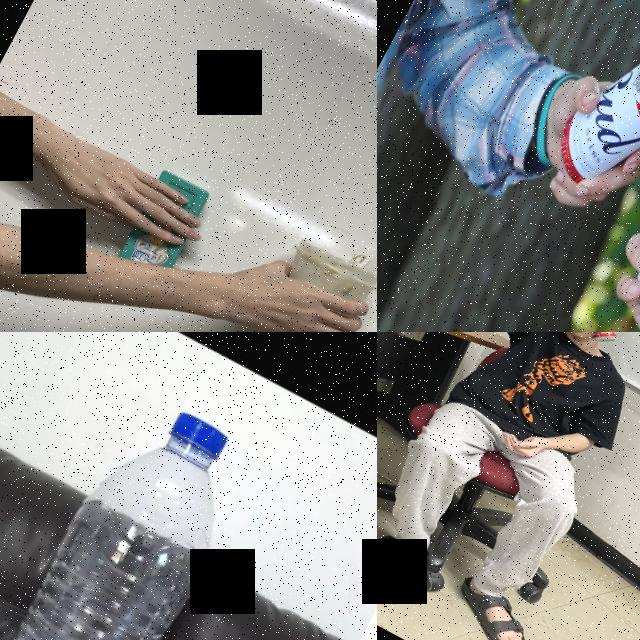bottle: (0, 384, 269, 640)
can: (541, 0, 640, 221), (555, 332, 635, 350)
cup: (245, 230, 377, 332)
